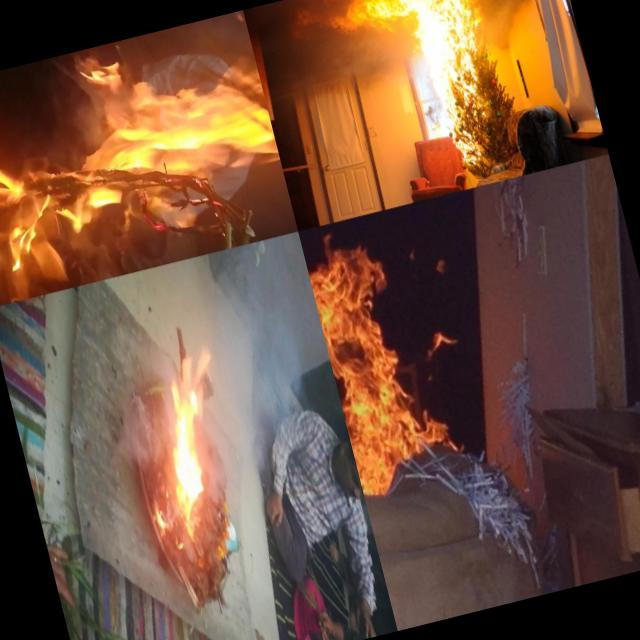fire: (299, 214, 462, 548), (162, 9, 298, 250), (393, 0, 520, 175), (225, 515, 325, 640), (285, 0, 405, 56)
smoke: (150, 364, 281, 541), (122, 260, 216, 387), (296, 28, 416, 101), (472, 0, 559, 54)
